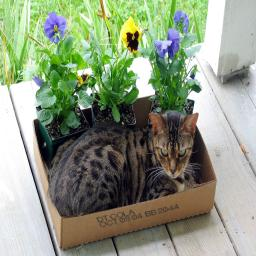catnose: (169, 167, 178, 175)
